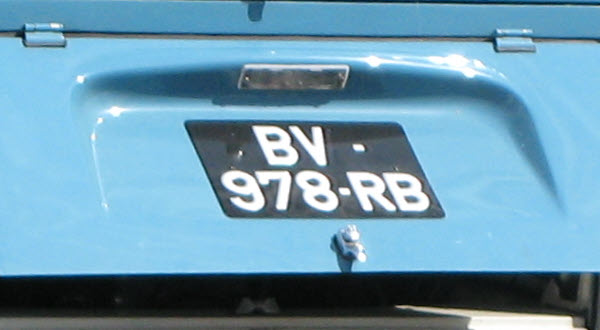license_plate: (184, 118, 446, 220)
